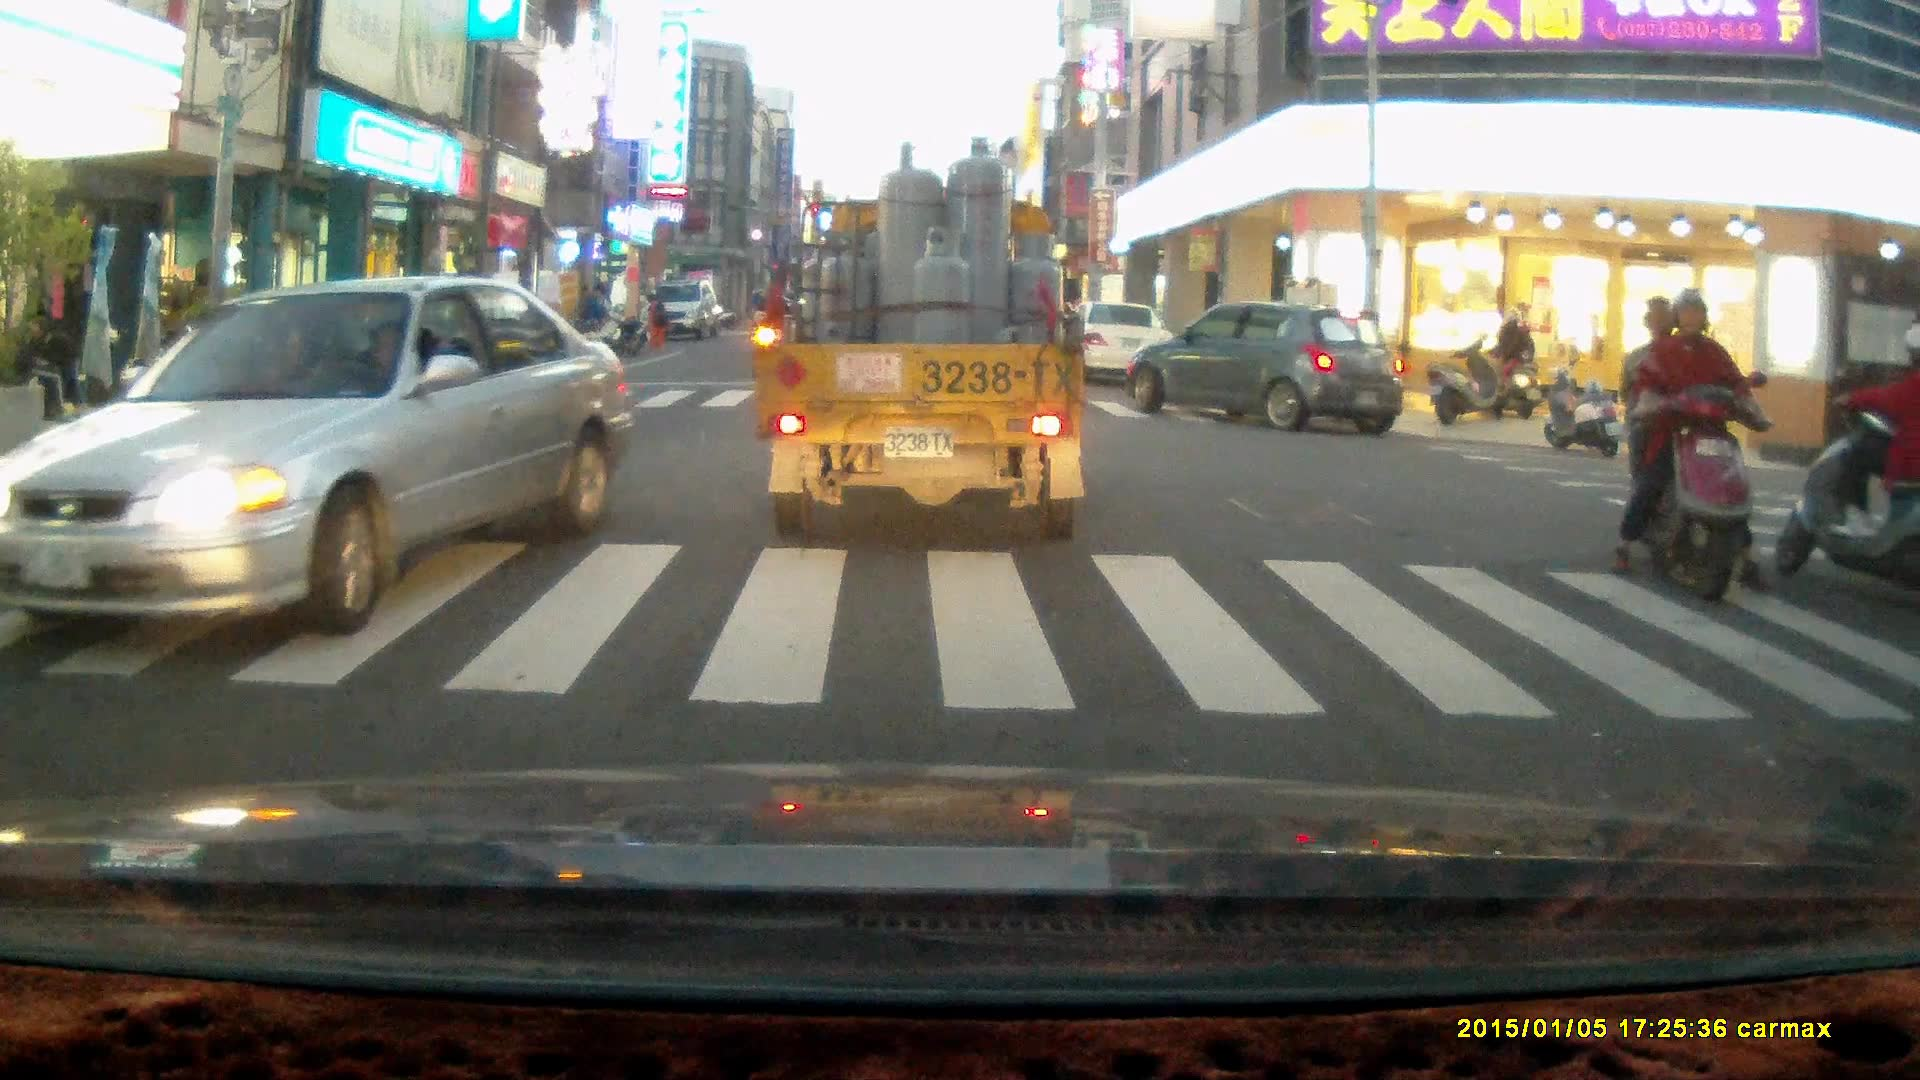pedestrian: (578, 282, 606, 346), (640, 291, 667, 351)
rider: (1601, 290, 1764, 607), (1773, 323, 1920, 609), (1480, 305, 1544, 421)
vehicle: (1, 277, 635, 635), (755, 134, 1090, 549), (1129, 302, 1414, 436), (1061, 302, 1182, 386), (640, 279, 718, 342)
